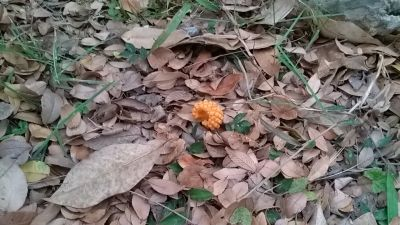eggs: (193, 100, 226, 131)
